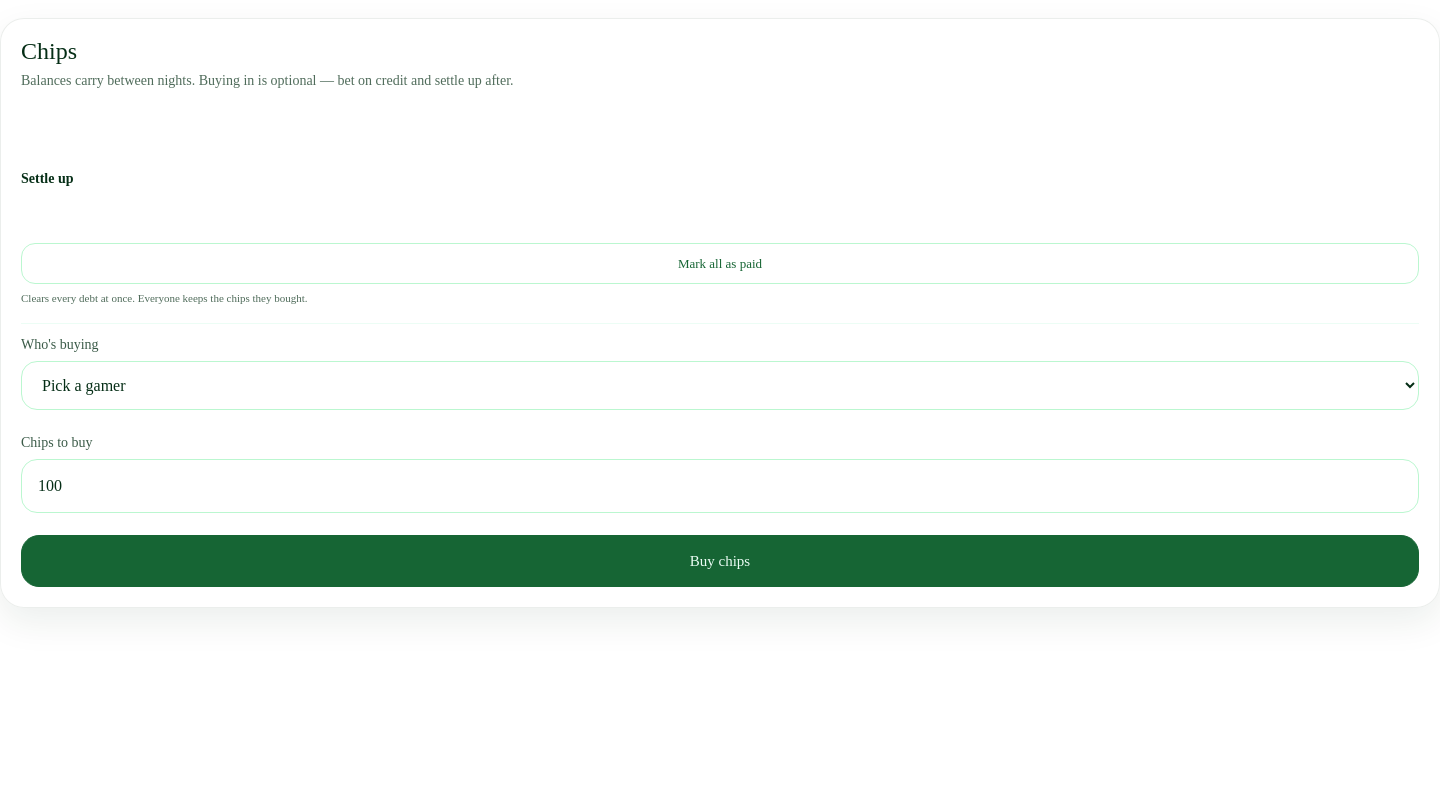
Test: ChipLedgerPanel › will not buy a non-positive amount
Select "Bob" in the dropdown labelled "Who's buying": (720, 385) [21,360,1419,410]
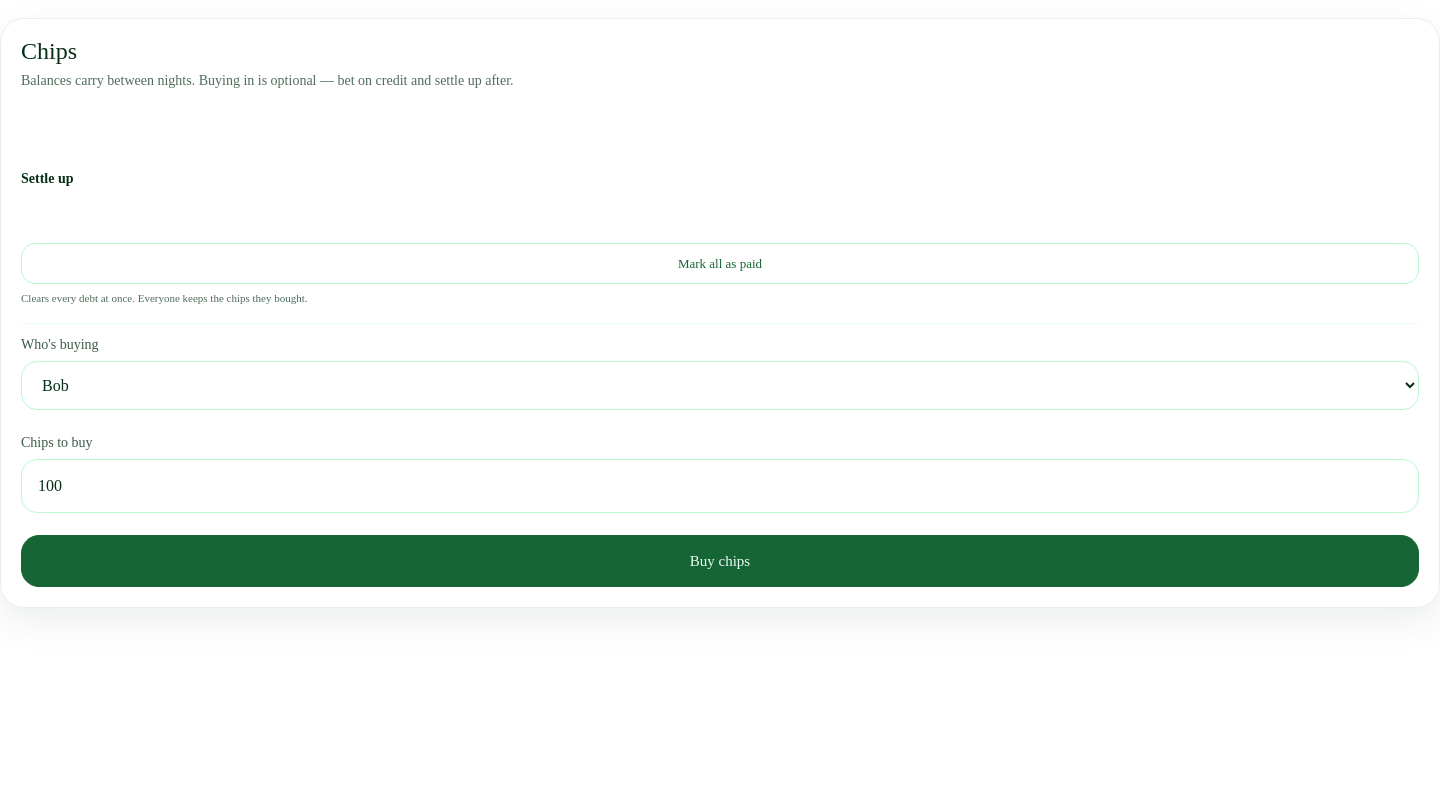
Replace the text in the field labelled "Chips to buy" with "0": (720, 486) [21,458,1419,512]
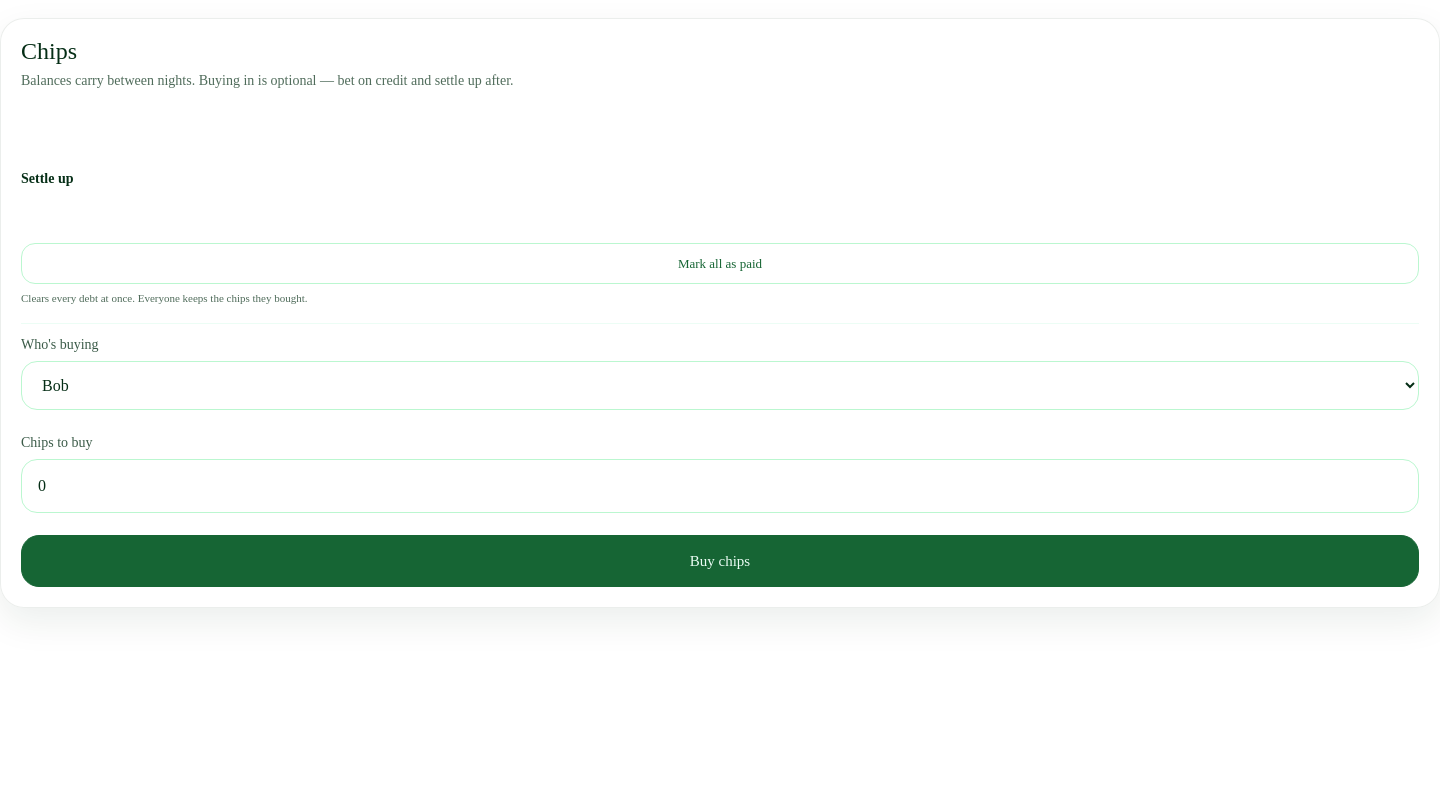
Click the button "Buy chips": (720, 561) [21,534,1419,587]
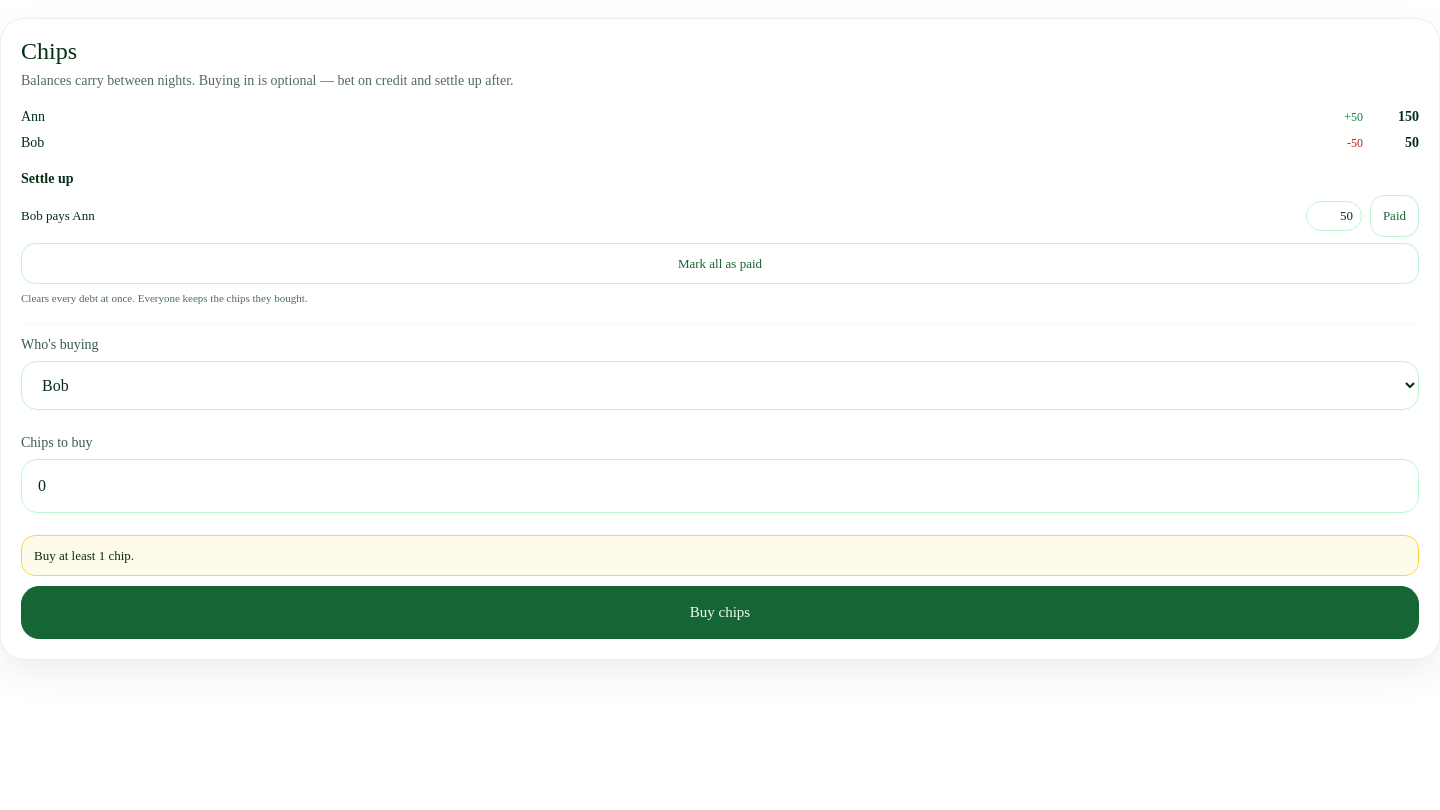
expect the text "Buy at least 1 chip." is shown: met, box [21,534,1419,576]
